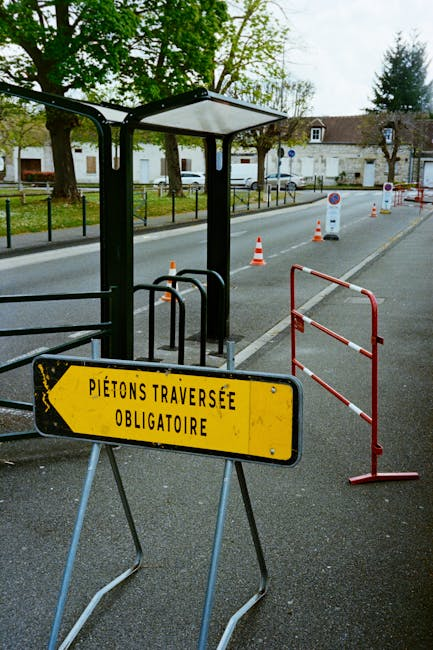traffic_cone: (160, 260, 178, 302), (249, 236, 267, 266), (312, 219, 324, 242), (370, 202, 377, 218), (415, 188, 422, 202)
